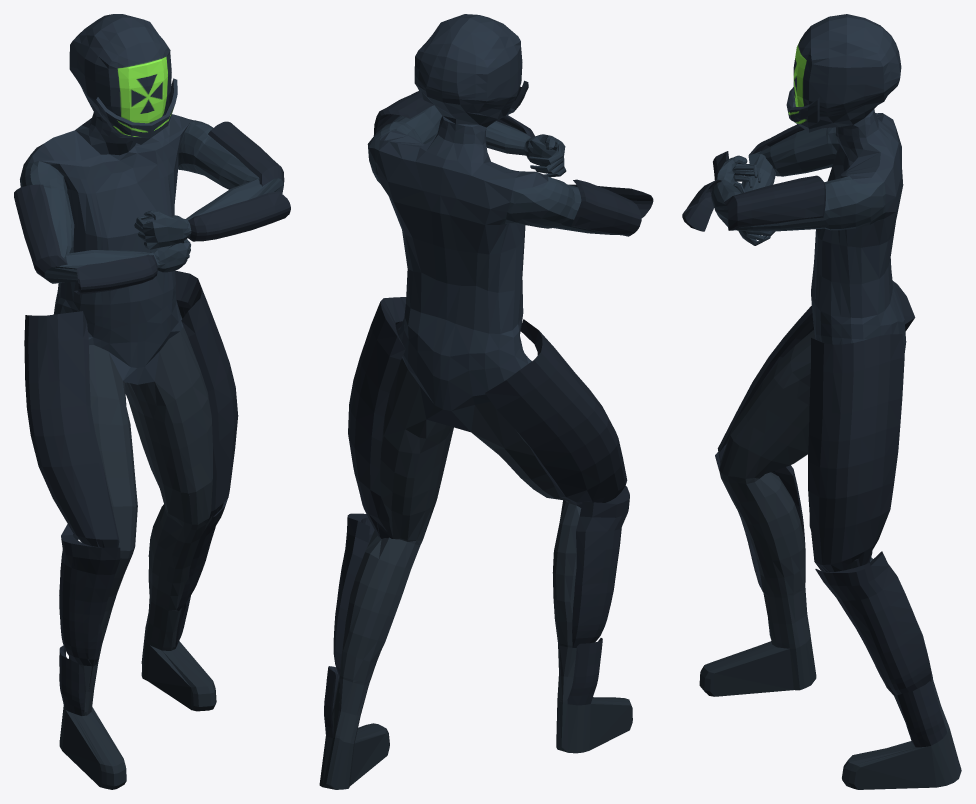
File: Bastion_WB_000011.obj
3 views of the same model, side by side, from view 1: azimuth 30°, elevation 25°; view 2: azimuth 150°, elevation 25°; view 3: azimuth 270°, elevation 25° (orthographic). The views are drawn at different scales.
Parts seen in each view (by area): view 1: Cube.002; view 2: Cube.002; view 3: Cube.002.
Part boxes in pixels (bbox=[...]): Cube.002: bbox=[14, 14, 290, 789]; Cube.002: bbox=[319, 14, 653, 789]; Cube.002: bbox=[682, 14, 961, 789].
Bounding box in the file's own units: 1.32 × 3.77 × 1.32.
